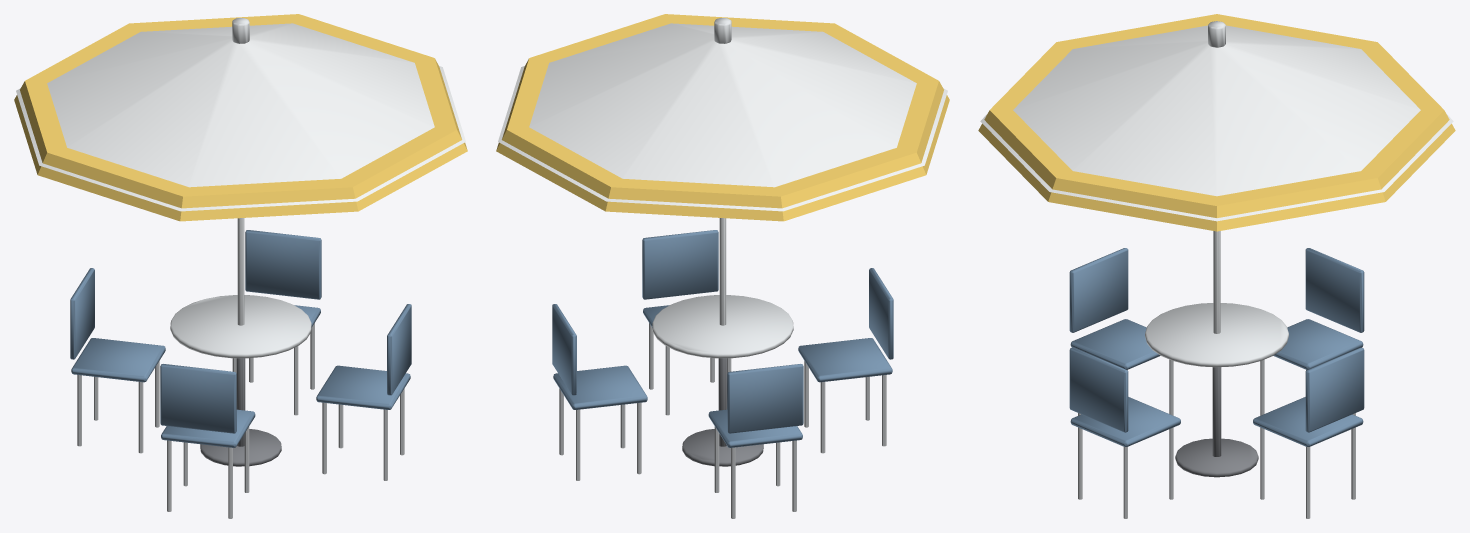
The model's file is terrace_set.glb.
3 renders of one model, left to right at view 1: azimuth 30°, elevation 25°; view 2: azimuth 150°, elevation 25°; view 3: azimuth 270°, elevation 25°, orthographic.
Visible parts, largest first — view 1: Body; view 2: Body; view 3: Body.
Part boxes in pixels (x1,y1,x2,y2): Body: [14, 14, 467, 518]; Body: [496, 14, 949, 518]; Body: [978, 14, 1455, 518].
Bounding box in the file's own units: 2.52 × 2.54 × 2.52.
